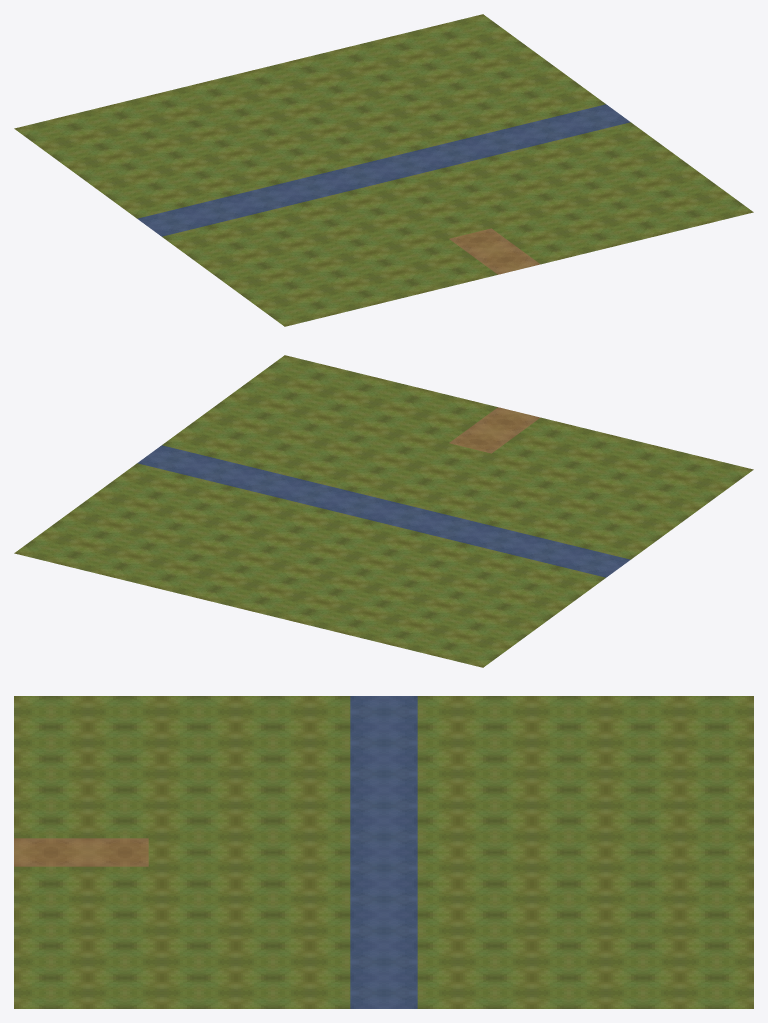
The model's file is TestRiver.glb.
3 views of the same model, one above another, from view 1: azimuth 30°, elevation 25°; view 2: azimuth 150°, elevation 25°; view 3: azimuth 270°, elevation 25° (orthographic). The views are drawn at different scales.
Visible parts, largest first — view 1: Plane.001; view 2: Plane.001; view 3: Plane.001.
Part boxes in pixels (x1,y1,x2,y2): Plane.001: (14, 14, 753, 326); Plane.001: (14, 355, 753, 667); Plane.001: (14, 696, 753, 1008).
Size of the model in its own units: 10.41 by 0 by 10.41.
3 materials, 3 textured.
